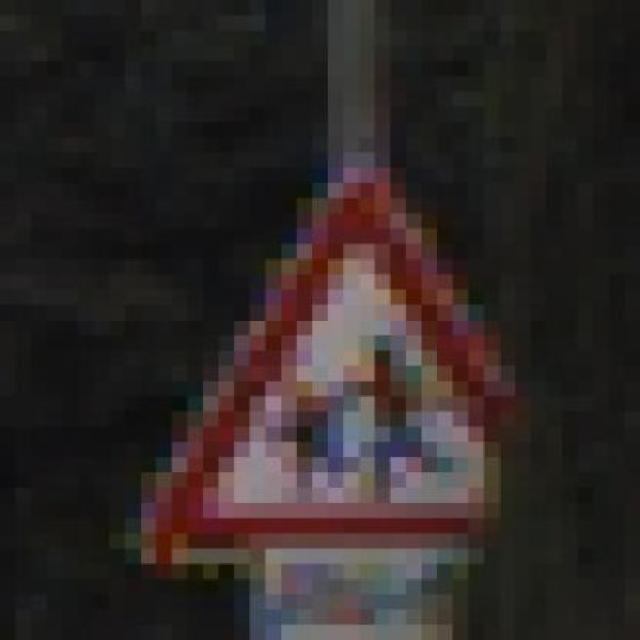Beware of children: (93, 152, 578, 579)
